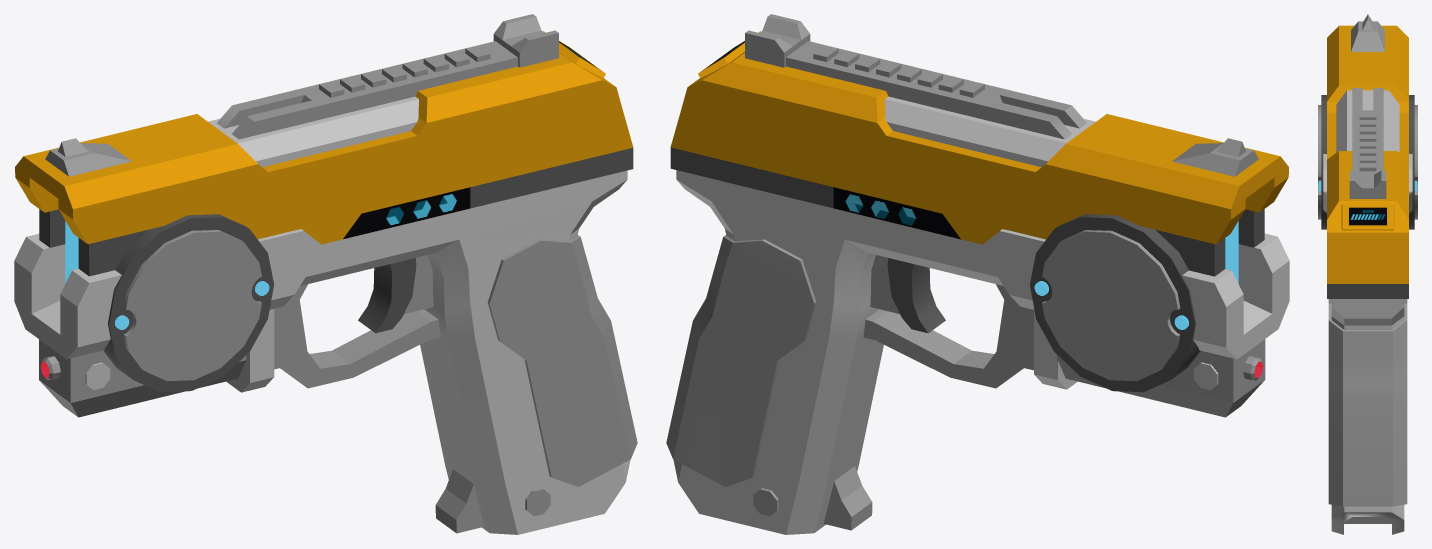
The picture shows the model from 3 angles, left to right: view 1: azimuth 30°, elevation 25°; view 2: azimuth 150°, elevation 25°; view 3: azimuth 270°, elevation 25°; orthographic projection. The views are drawn at different scales.
Parts seen in each view (by area): view 1: SM_P01, SM_P01_Trigger; view 2: SM_P01, SM_P01_Trigger; view 3: SM_P01.
Part boxes in pixels (bbox=[...]): SM_P01: bbox=[14, 14, 637, 534]; SM_P01_Trigger: bbox=[358, 255, 433, 333]; SM_P01: bbox=[666, 14, 1289, 534]; SM_P01_Trigger: bbox=[870, 255, 945, 333]; SM_P01: bbox=[1318, 14, 1417, 534].
Bounding box in the file's own units: 20.27 × 16.26 × 4.31.
6 materials, 1 textured.
